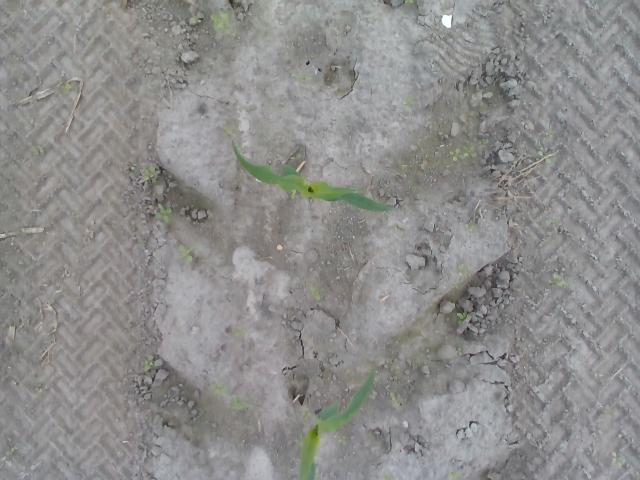Maize: (229, 138, 393, 212), (298, 370, 377, 480)
Weeds: (448, 146, 477, 162), (209, 9, 231, 30), (230, 397, 253, 412), (176, 242, 193, 262), (142, 164, 160, 180), (536, 146, 552, 164), (158, 207, 172, 225), (553, 272, 568, 286), (212, 383, 228, 395), (143, 354, 155, 370), (308, 287, 320, 301), (612, 452, 624, 466), (30, 144, 44, 156), (455, 310, 468, 320), (451, 471, 463, 480), (301, 407, 311, 417), (337, 436, 347, 444)
